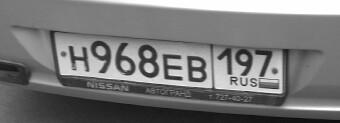license-plateSW: (54, 35, 288, 97)
